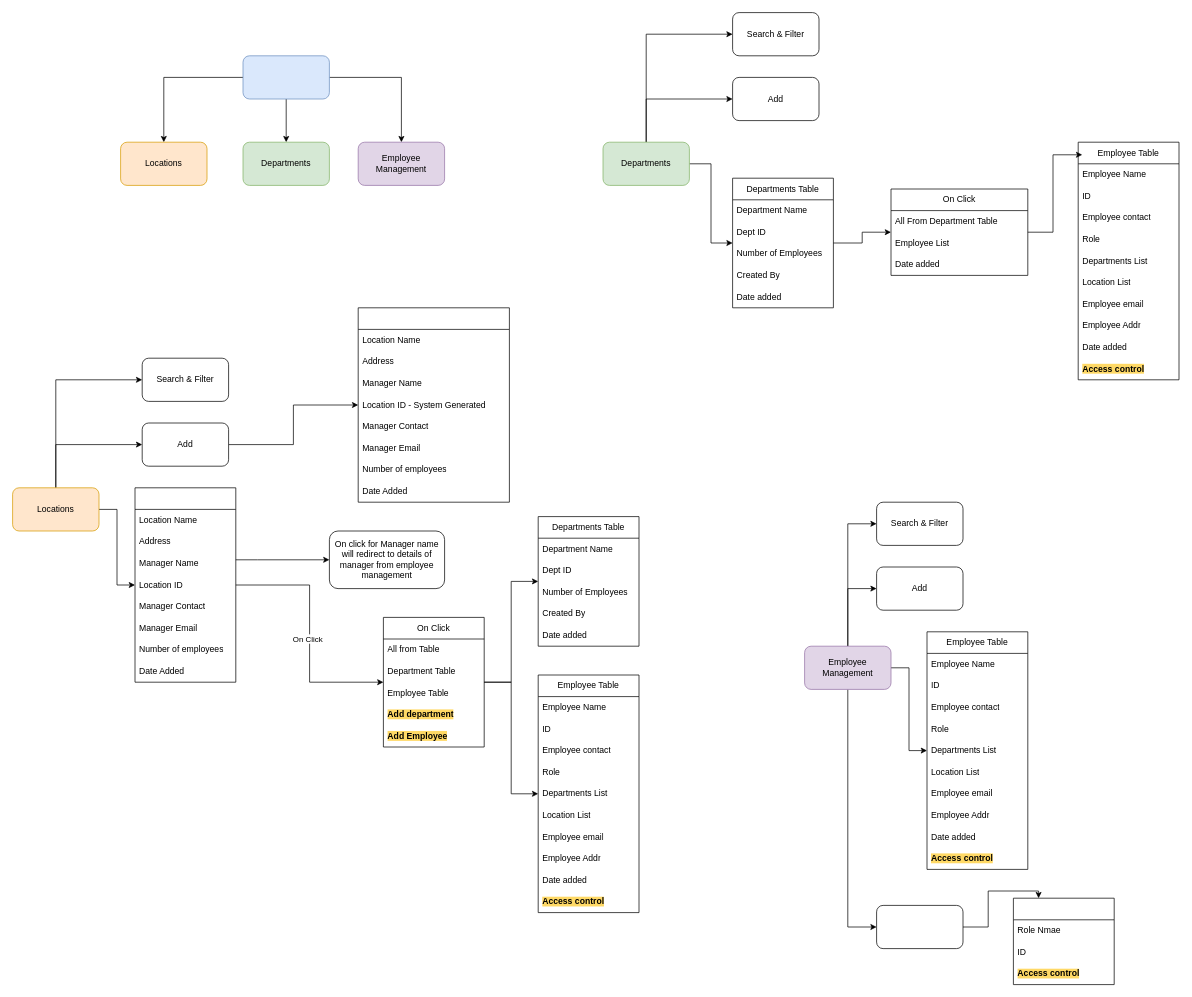
Some shapes in this 1192 by 997 pixel diagram are drawn without their labels. The shapes that lost their labels are listed below. From the top down, each one's box as (x1, y1, x2, y2) in pixels, then its label:
(242, 55, 329, 99): My Organization
(357, 307, 509, 502): Input Fileds
(134, 487, 236, 682): Table
(876, 905, 963, 949): Role Management
(1013, 897, 1114, 985): Role Table
